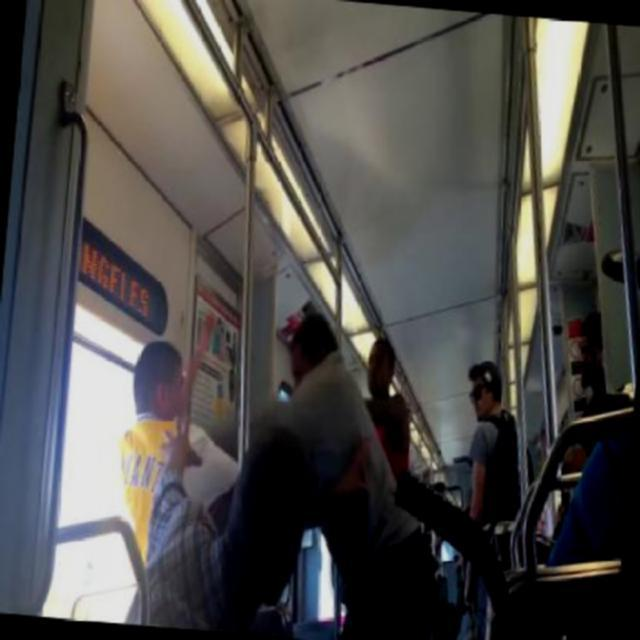fight: (116, 288, 392, 554)
non-fight: (454, 352, 540, 518)
